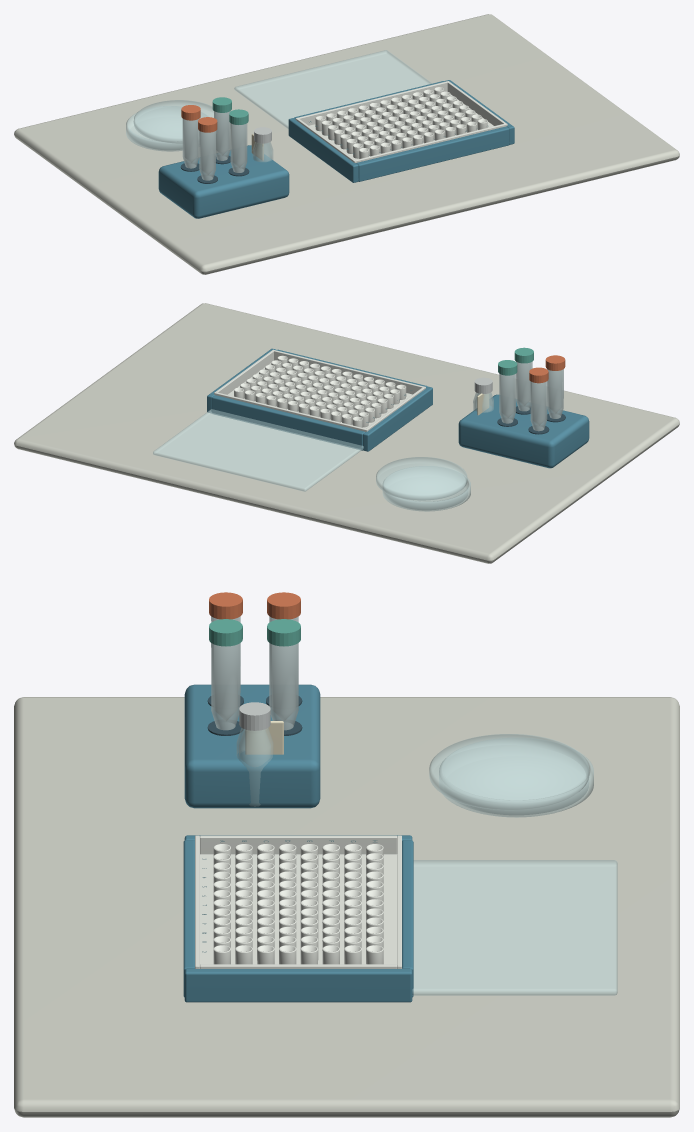
The model's file is sample-ware.glb.
The picture shows the model from 3 angles, top to bottom: view 1: azimuth 30°, elevation 25°; view 2: azimuth 150°, elevation 25°; view 3: azimuth 270°, elevation 25°; orthographic projection. The views are drawn at different scales.
Visible parts, largest first — view 1: Indexing_work_surface, 96_plate_lid, Tube_rack, Rack_end_-45, Dry_clear_dish, Dry_dish_lid, Rack_side_-65, Plate_long_wall_41.74, Tube_1, Tube_2, Tube_0, Tube_3 (+2 smaller); view 2: Indexing_work_surface, 96_plate_lid, Tube_rack, Dry_clear_dish, Dry_dish_lid, Rack_end_45, Rack_side_-65, Plate_long_wall_-41.74, Tube_2, Tube_3, Tube_0, Tube_1 (+2 smaller); view 3: Indexing_work_surface, 96_plate_lid, Tube_rack, Dry_clear_dish, Dry_dish_lid, Rack_side_65, Plate_footprint_base, Plate_short_wall_-62.88, Tube_1, Tube_3, Glass_vial, Rack_end_-45 (+8 smaller).
Part boxes in pixels (left/top/right/bottom): Indexing_work_surface: left=14, top=14, right=679, bottom=274; 96_plate_lid: left=234, top=50, right=432, bottom=128; Tube_rack: left=158, top=145, right=289, bottom=218; Rack_end_-45: left=356, top=126, right=509, bottom=181; Dry_clear_dish: left=126, top=106, right=208, bottom=151; Dry_dish_lid: left=133, top=100, right=213, bottom=143; Rack_side_-65: left=288, top=118, right=358, bottom=182; Plate_long_wall_41.74: left=295, top=81, right=449, bottom=125; Tube_1: left=230, top=123, right=247, bottom=172; Tube_2: left=182, top=118, right=199, bottom=168; Tube_0: left=199, top=131, right=216, bottom=180; Tube_3: left=214, top=111, right=230, bottom=160; Indexing_work_surface: left=14, top=303, right=679, bottom=563; 96_plate_lid: left=153, top=409, right=363, bottom=491; Tube_rack: left=458, top=394, right=589, bottom=468; Dry_clear_dish: left=382, top=466, right=470, bottom=511; Dry_dish_lid: left=376, top=457, right=467, bottom=500; Rack_end_45: left=212, top=395, right=364, bottom=450; Rack_side_-65: left=363, top=386, right=432, bottom=451; Plate_long_wall_-41.74: left=272, top=349, right=425, bottom=394; Tube_2: left=530, top=381, right=547, bottom=431; Tube_3: left=499, top=374, right=515, bottom=423; Tube_0: left=547, top=369, right=563, bottom=418; Tube_1: left=516, top=361, right=532, bottom=411; Indexing_work_surface: left=14, top=697, right=679, bottom=1117; 96_plate_lid: left=412, top=860, right=617, bottom=995; Tube_rack: left=184, top=684, right=320, bottom=808; Dry_clear_dish: left=439, top=738, right=593, bottom=817; Dry_dish_lid: left=429, top=734, right=589, bottom=810; Rack_side_65: left=184, top=968, right=412, bottom=1002; Plate_footprint_base: left=200, top=854, right=397, bottom=964; Plate_short_wall_-62.88: left=200, top=835, right=397, bottom=854; Tube_1: left=211, top=643, right=240, bottom=730; Tube_3: left=269, top=643, right=298, bottom=730; Glass_vial: left=236, top=728, right=273, bottom=806; Rack_end_-45: left=183, top=840, right=194, bottom=997.
Bounding box in the file's own units: 0.4 × 0.0766 × 0.275.
